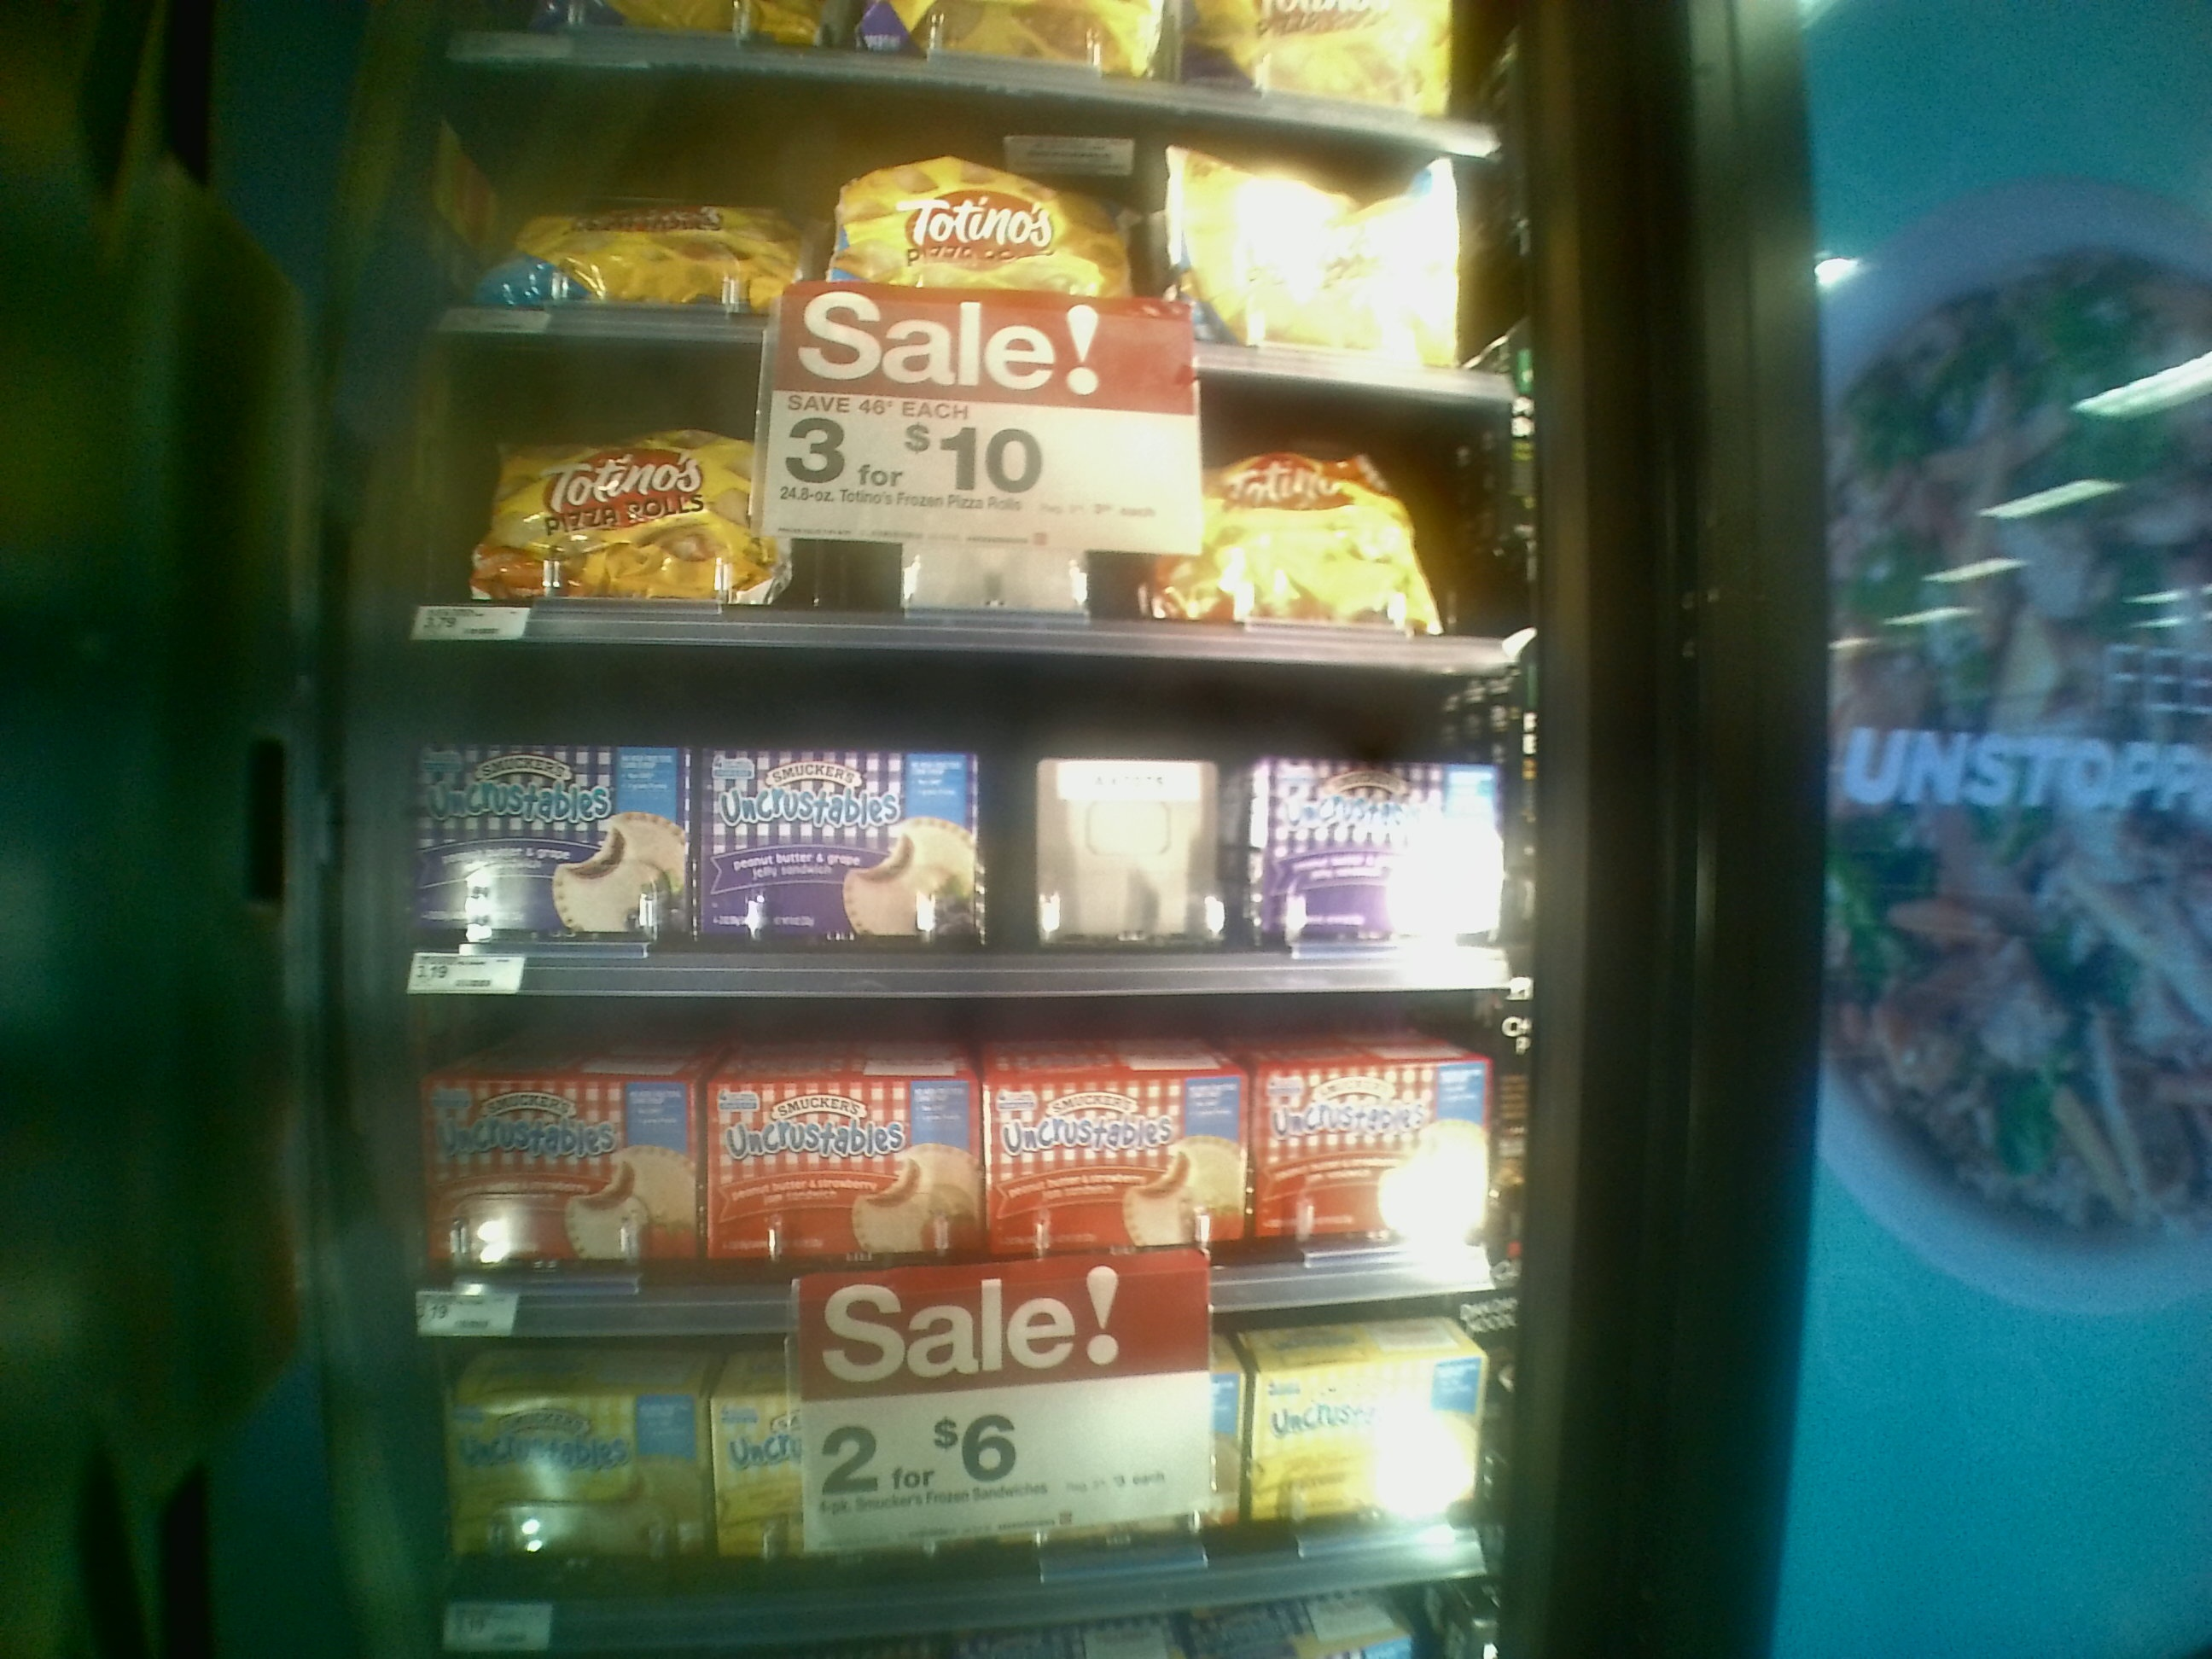shelf: (392, 315, 1501, 667), (387, 638, 1503, 983), (394, 1290, 1484, 1621), (380, 986, 1517, 1298)
